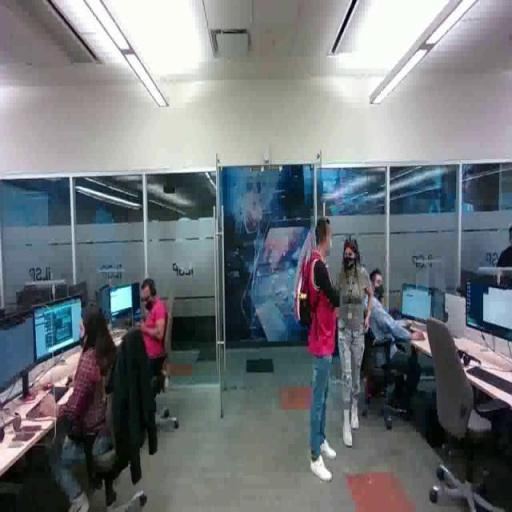person: (46, 306, 129, 512), (296, 214, 343, 483), (362, 263, 429, 422), (329, 236, 375, 454), (121, 278, 172, 412)
